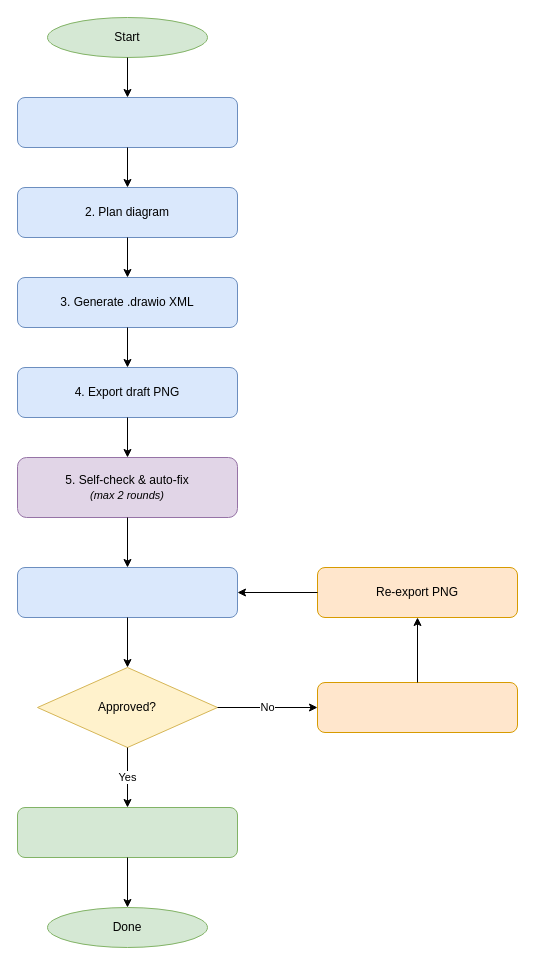
Some shapes in this 535 by 965 pixel diagram are drawn without their labels. The shapes that lost their labels are listed below. From the top down, each one's centre as x and y in pixels, then its label:
(127,122): 1. Check deps
(127,592): 6. Show image to user
(417,707): Edit XML per feedback
(127,832): 7. Final export
